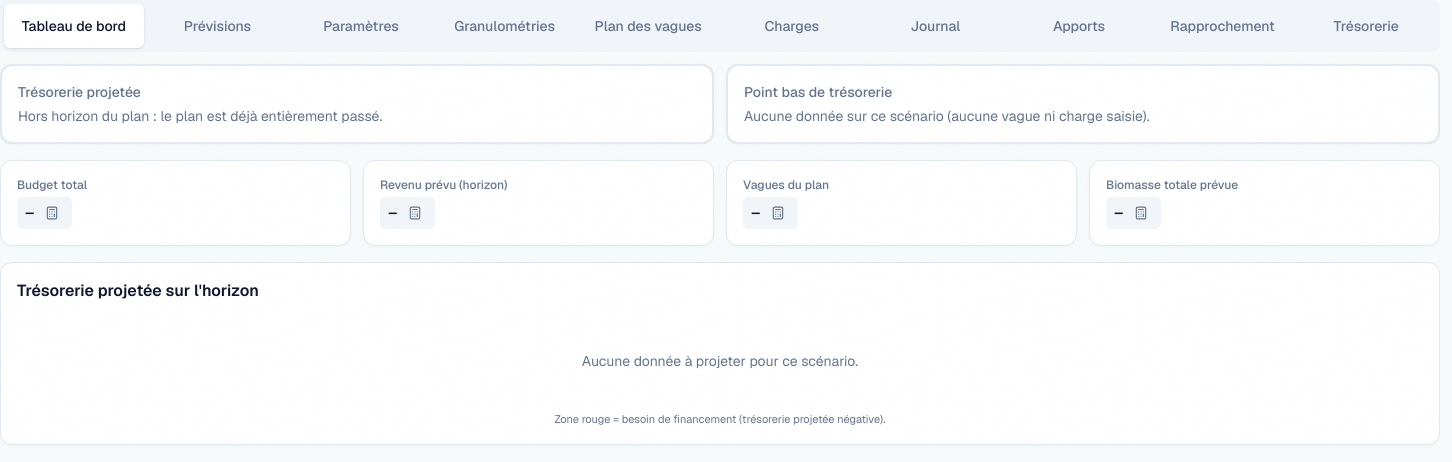
Test: ScenarioDetailClient — relais erreurRapprochement/erreurTresorerie (reserve R4) › relaie erreurRapprochement (non null) jusqu'a l'onglet Rapprochement, jamais absorbe en null
What coordinates should you click on to do the following:
click the tab "Rapprochement"
I would click on:
 (1223, 26)
Its box is [1153, 4, 1292, 48].
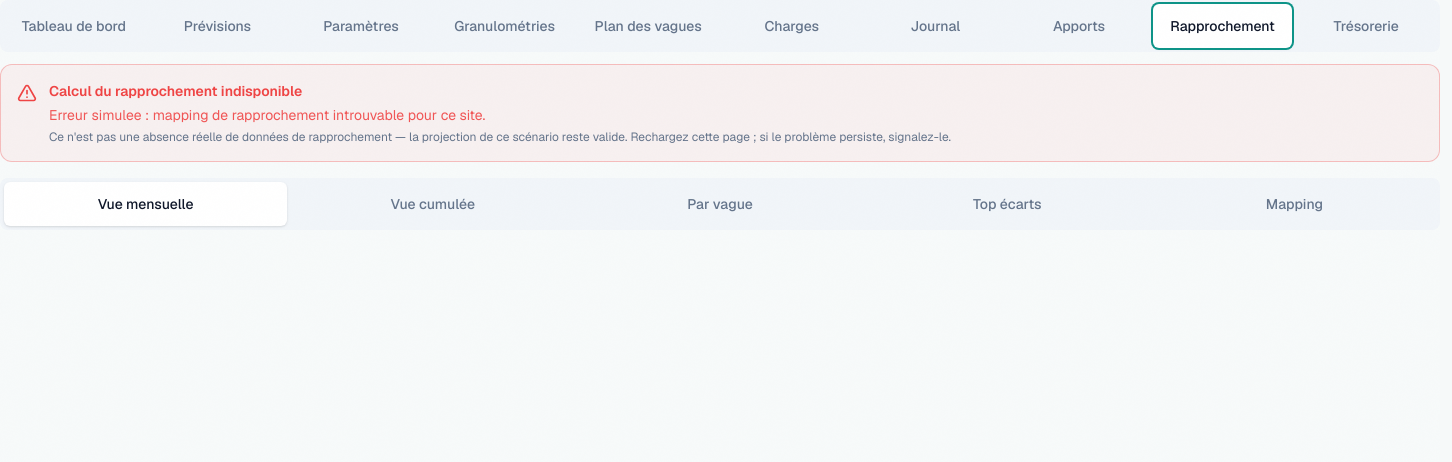
Now the text "Erreur simulee : mapping de rapprochement introuvable pour ce site." is shown, box [49, 106, 485, 124]
